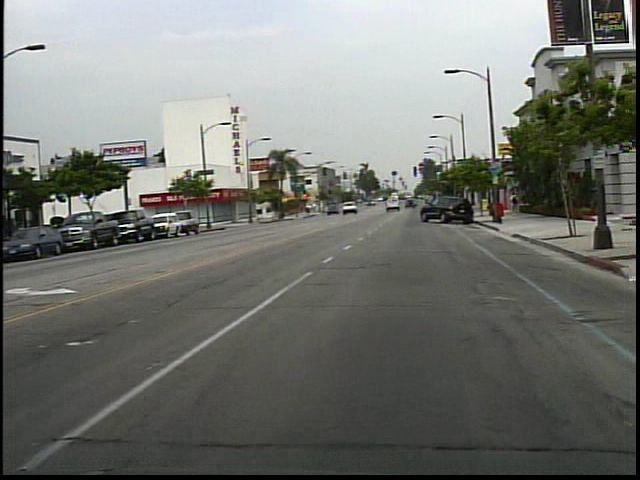person: (512, 189, 526, 218)
